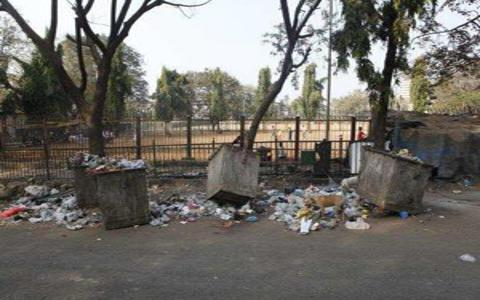overflowing garbage: (59, 154, 182, 236), (199, 143, 293, 227), (348, 151, 433, 227)
